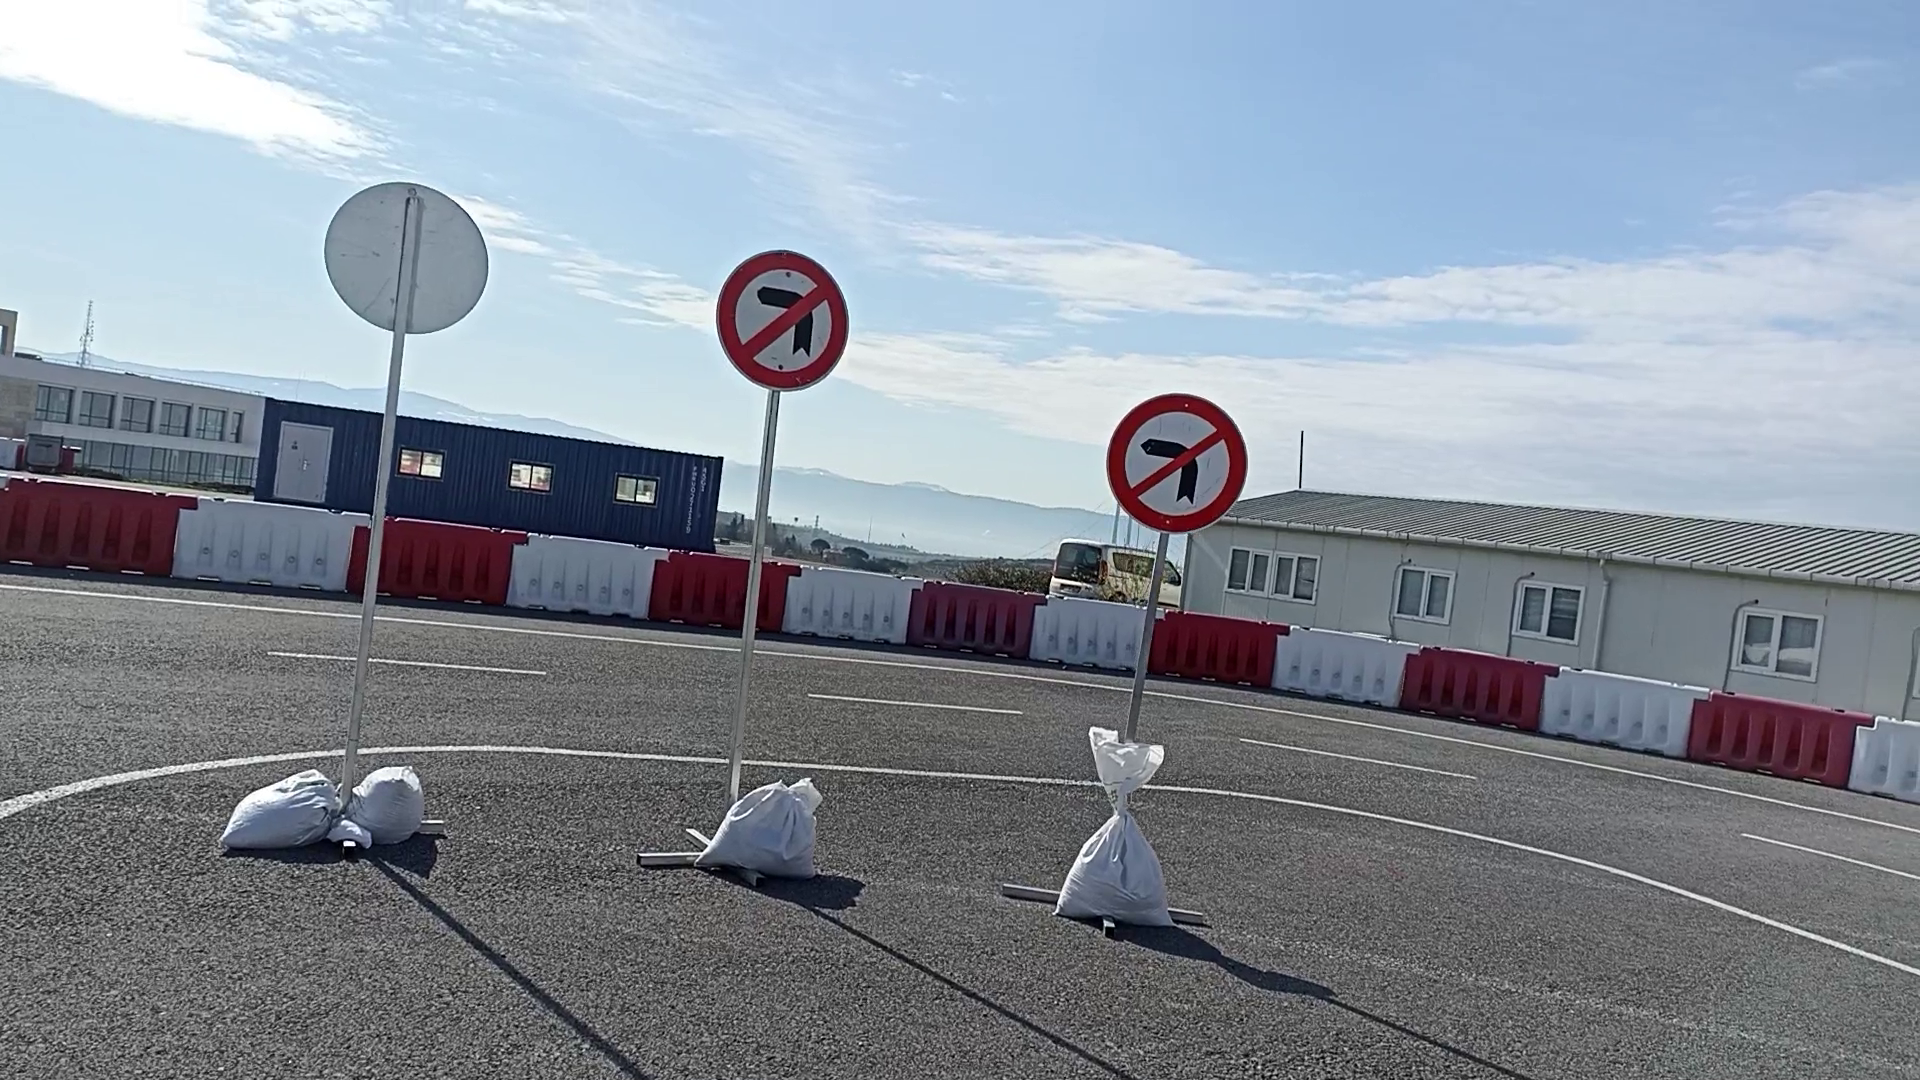noleft: (1104, 392, 1250, 537), (713, 247, 851, 394)
